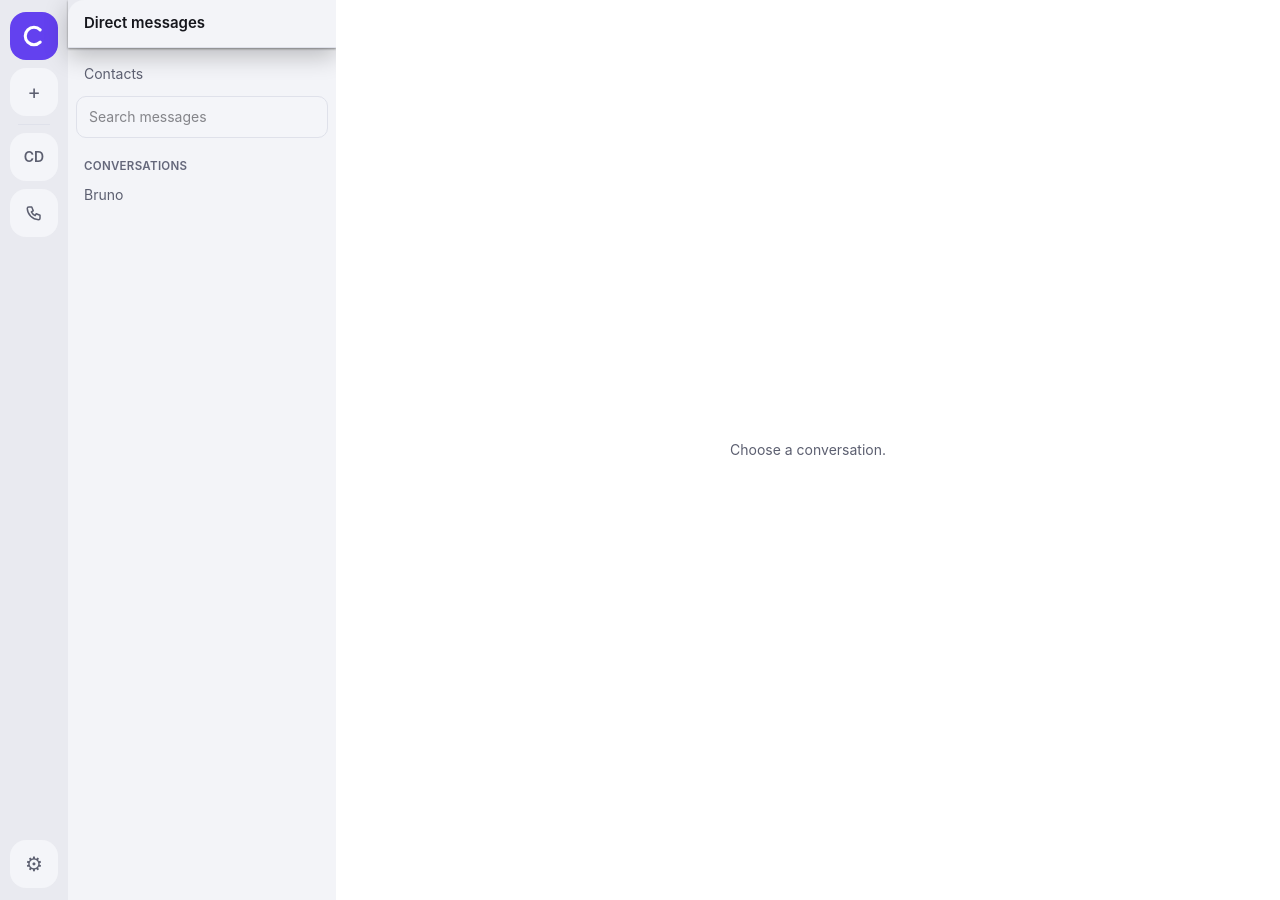
Test case: a space's members are listed by rank, with their roles
Click the button with aria-label "Casa da Ana". click: point(34, 157)
box: [10,133,58,181]
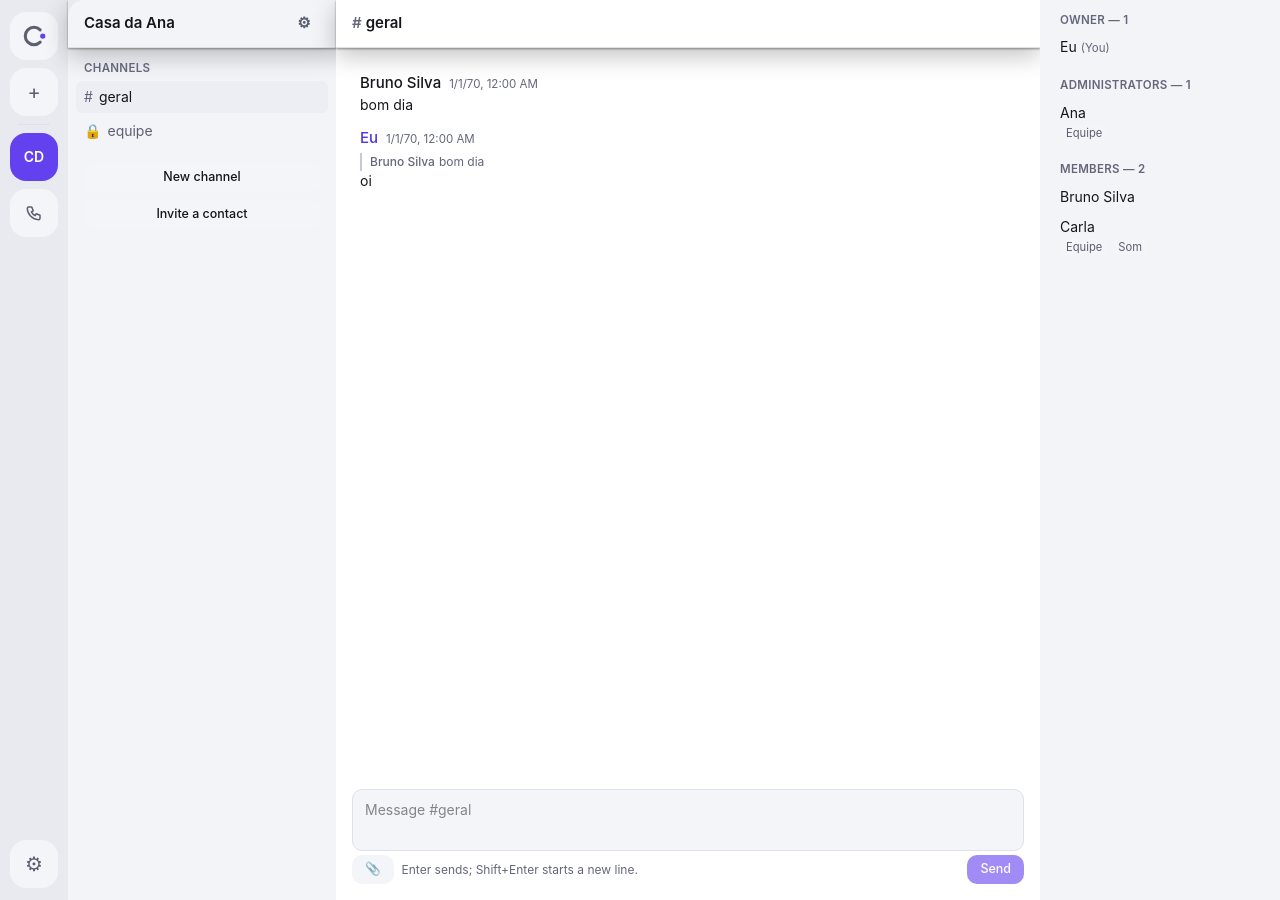
Check: the heading "Owner — 1" is shown, box [1060,13,1128,27]
Check: the heading "Administrators — 1" is shown, box [1060,78,1191,92]
Check: the heading "Members — 2" is shown, box [1060,162,1146,176]
